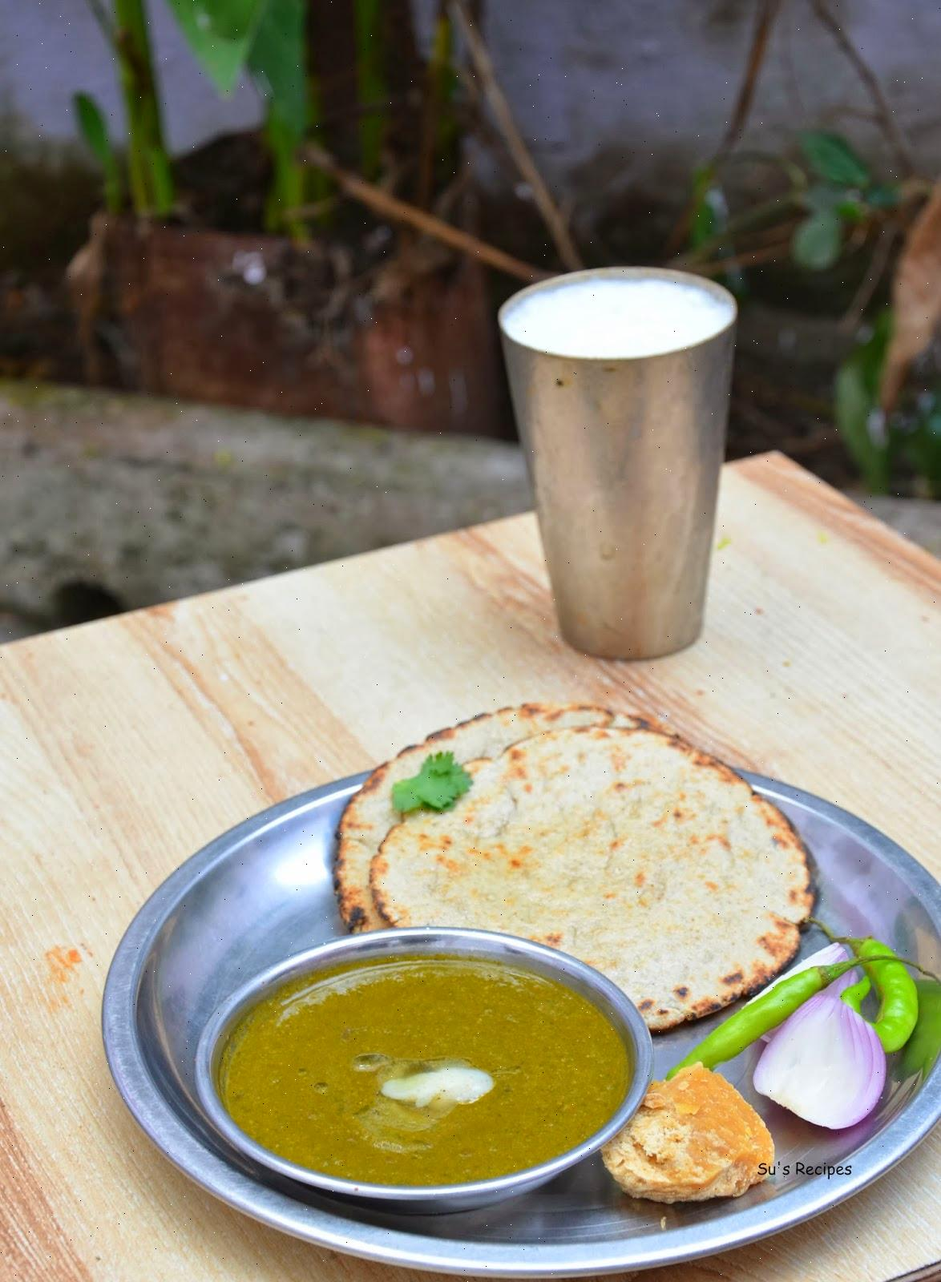saag: (224, 967, 622, 1192)
